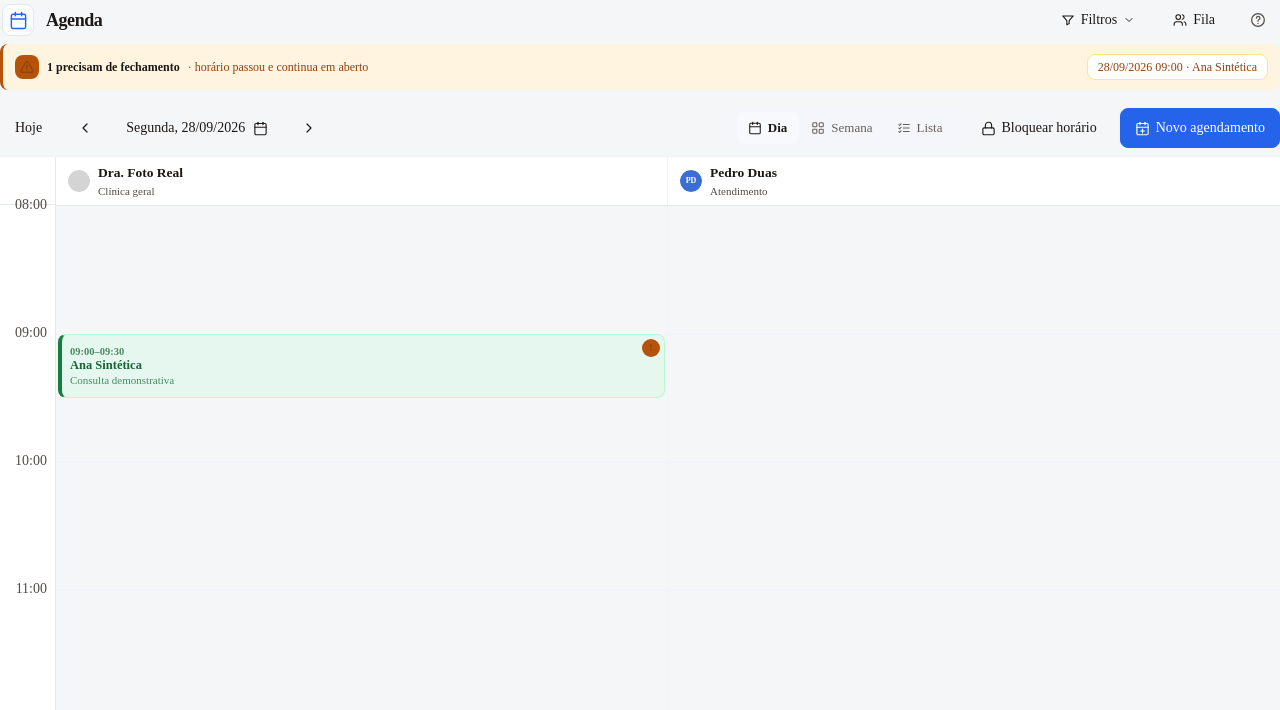
Test: CTA, Filtros e Fila continuam abrindo os fluxos existentes › 9. “Novo agendamento” abre o MESMO fluxo de criação (sheet), pré-preenchido com a data
The image size is (1280, 710).
Expected: the text "Dra. Foto Real" is shown, [98,163,183,183]
Click the button "Novo agendamento": (1200, 128) [1120,108,1279,148]
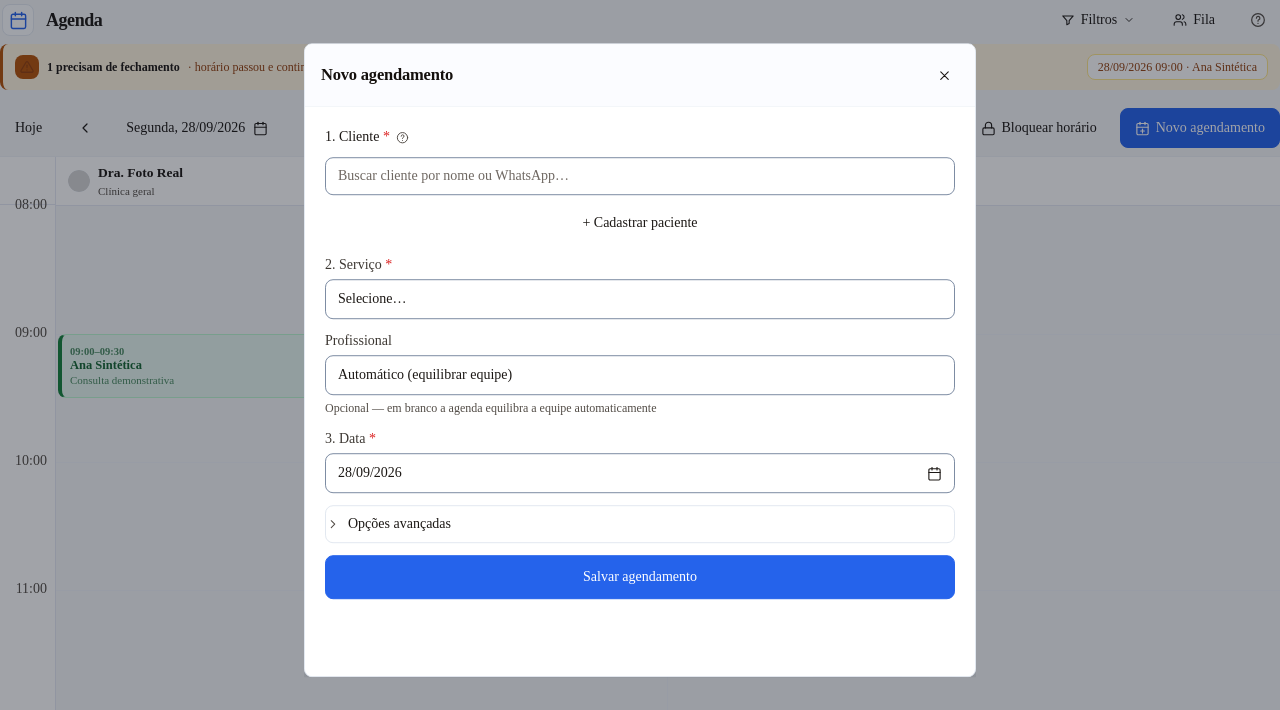
Expected: the dialog "Novo agendamento" is shown, [304,43,976,677]
